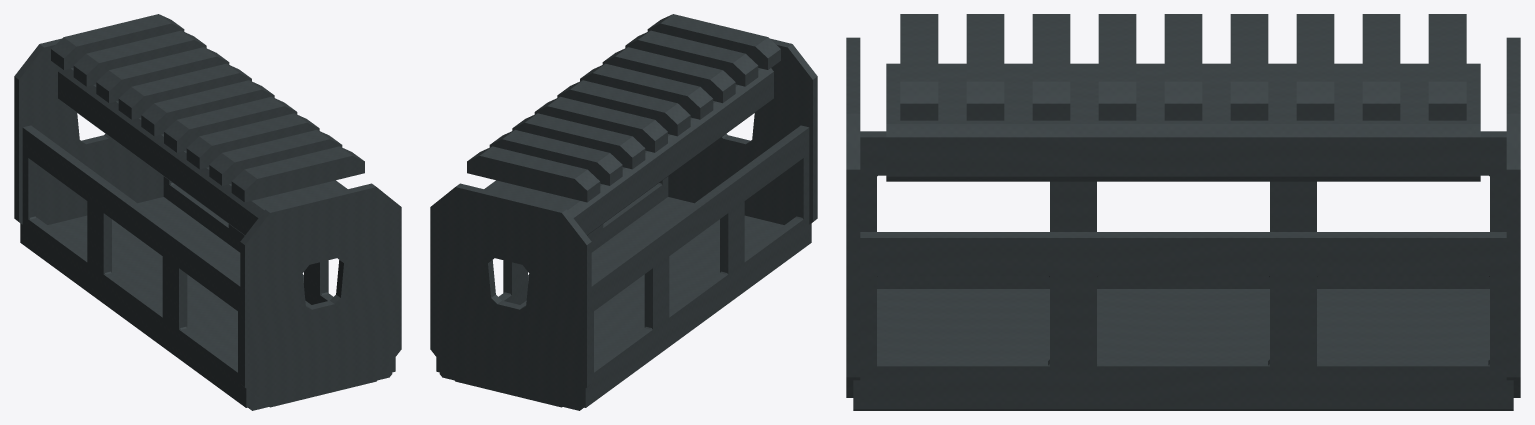
Rendered from ak_rail.glb.
The picture shows the model from 3 angles, left to right: view 1: azimuth 30°, elevation 25°; view 2: azimuth 150°, elevation 25°; view 3: azimuth 270°, elevation 25°; orthographic projection. The views are drawn at different scales.
Parts seen in each view (by area): view 1: ak_rail_vent_wall, ak_rail_vent_wall.006; view 2: ak_rail_vent_wall, ak_rail_vent_wall.006; view 3: ak_rail_vent_wall, ak_rail_vent_wall.006.
Part boxes in pixels (x1,y1,x2,y2): ak_rail_vent_wall: (14,14,401,410); ak_rail_vent_wall.006: (20,125,395,407); ak_rail_vent_wall: (430,14,817,410); ak_rail_vent_wall.006: (436,125,811,407); ak_rail_vent_wall: (846,14,1520,410); ak_rail_vent_wall.006: (853,131,1513,408).
Bounding box in the file's own units: 0.112 × 0.147 × 0.286.
Materials: 1 (1 with a texture image).
